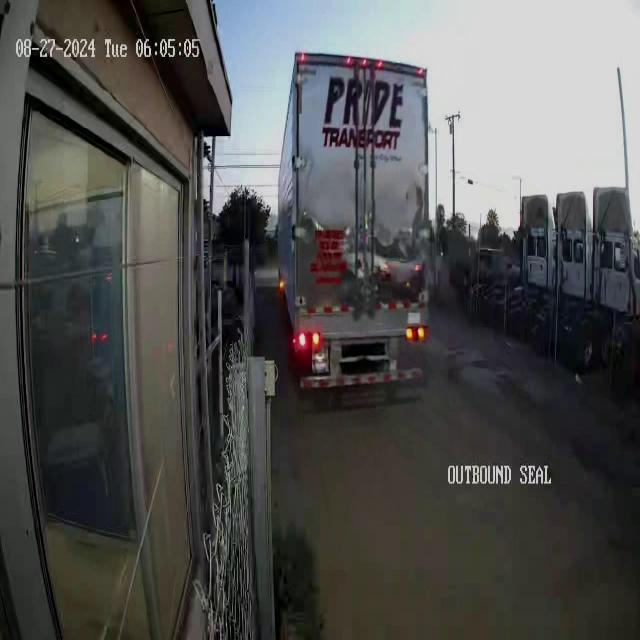CONTAINER: (276, 50, 431, 352)
